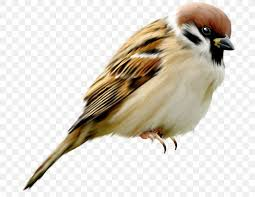hsparrow: (19, 1, 241, 192)
